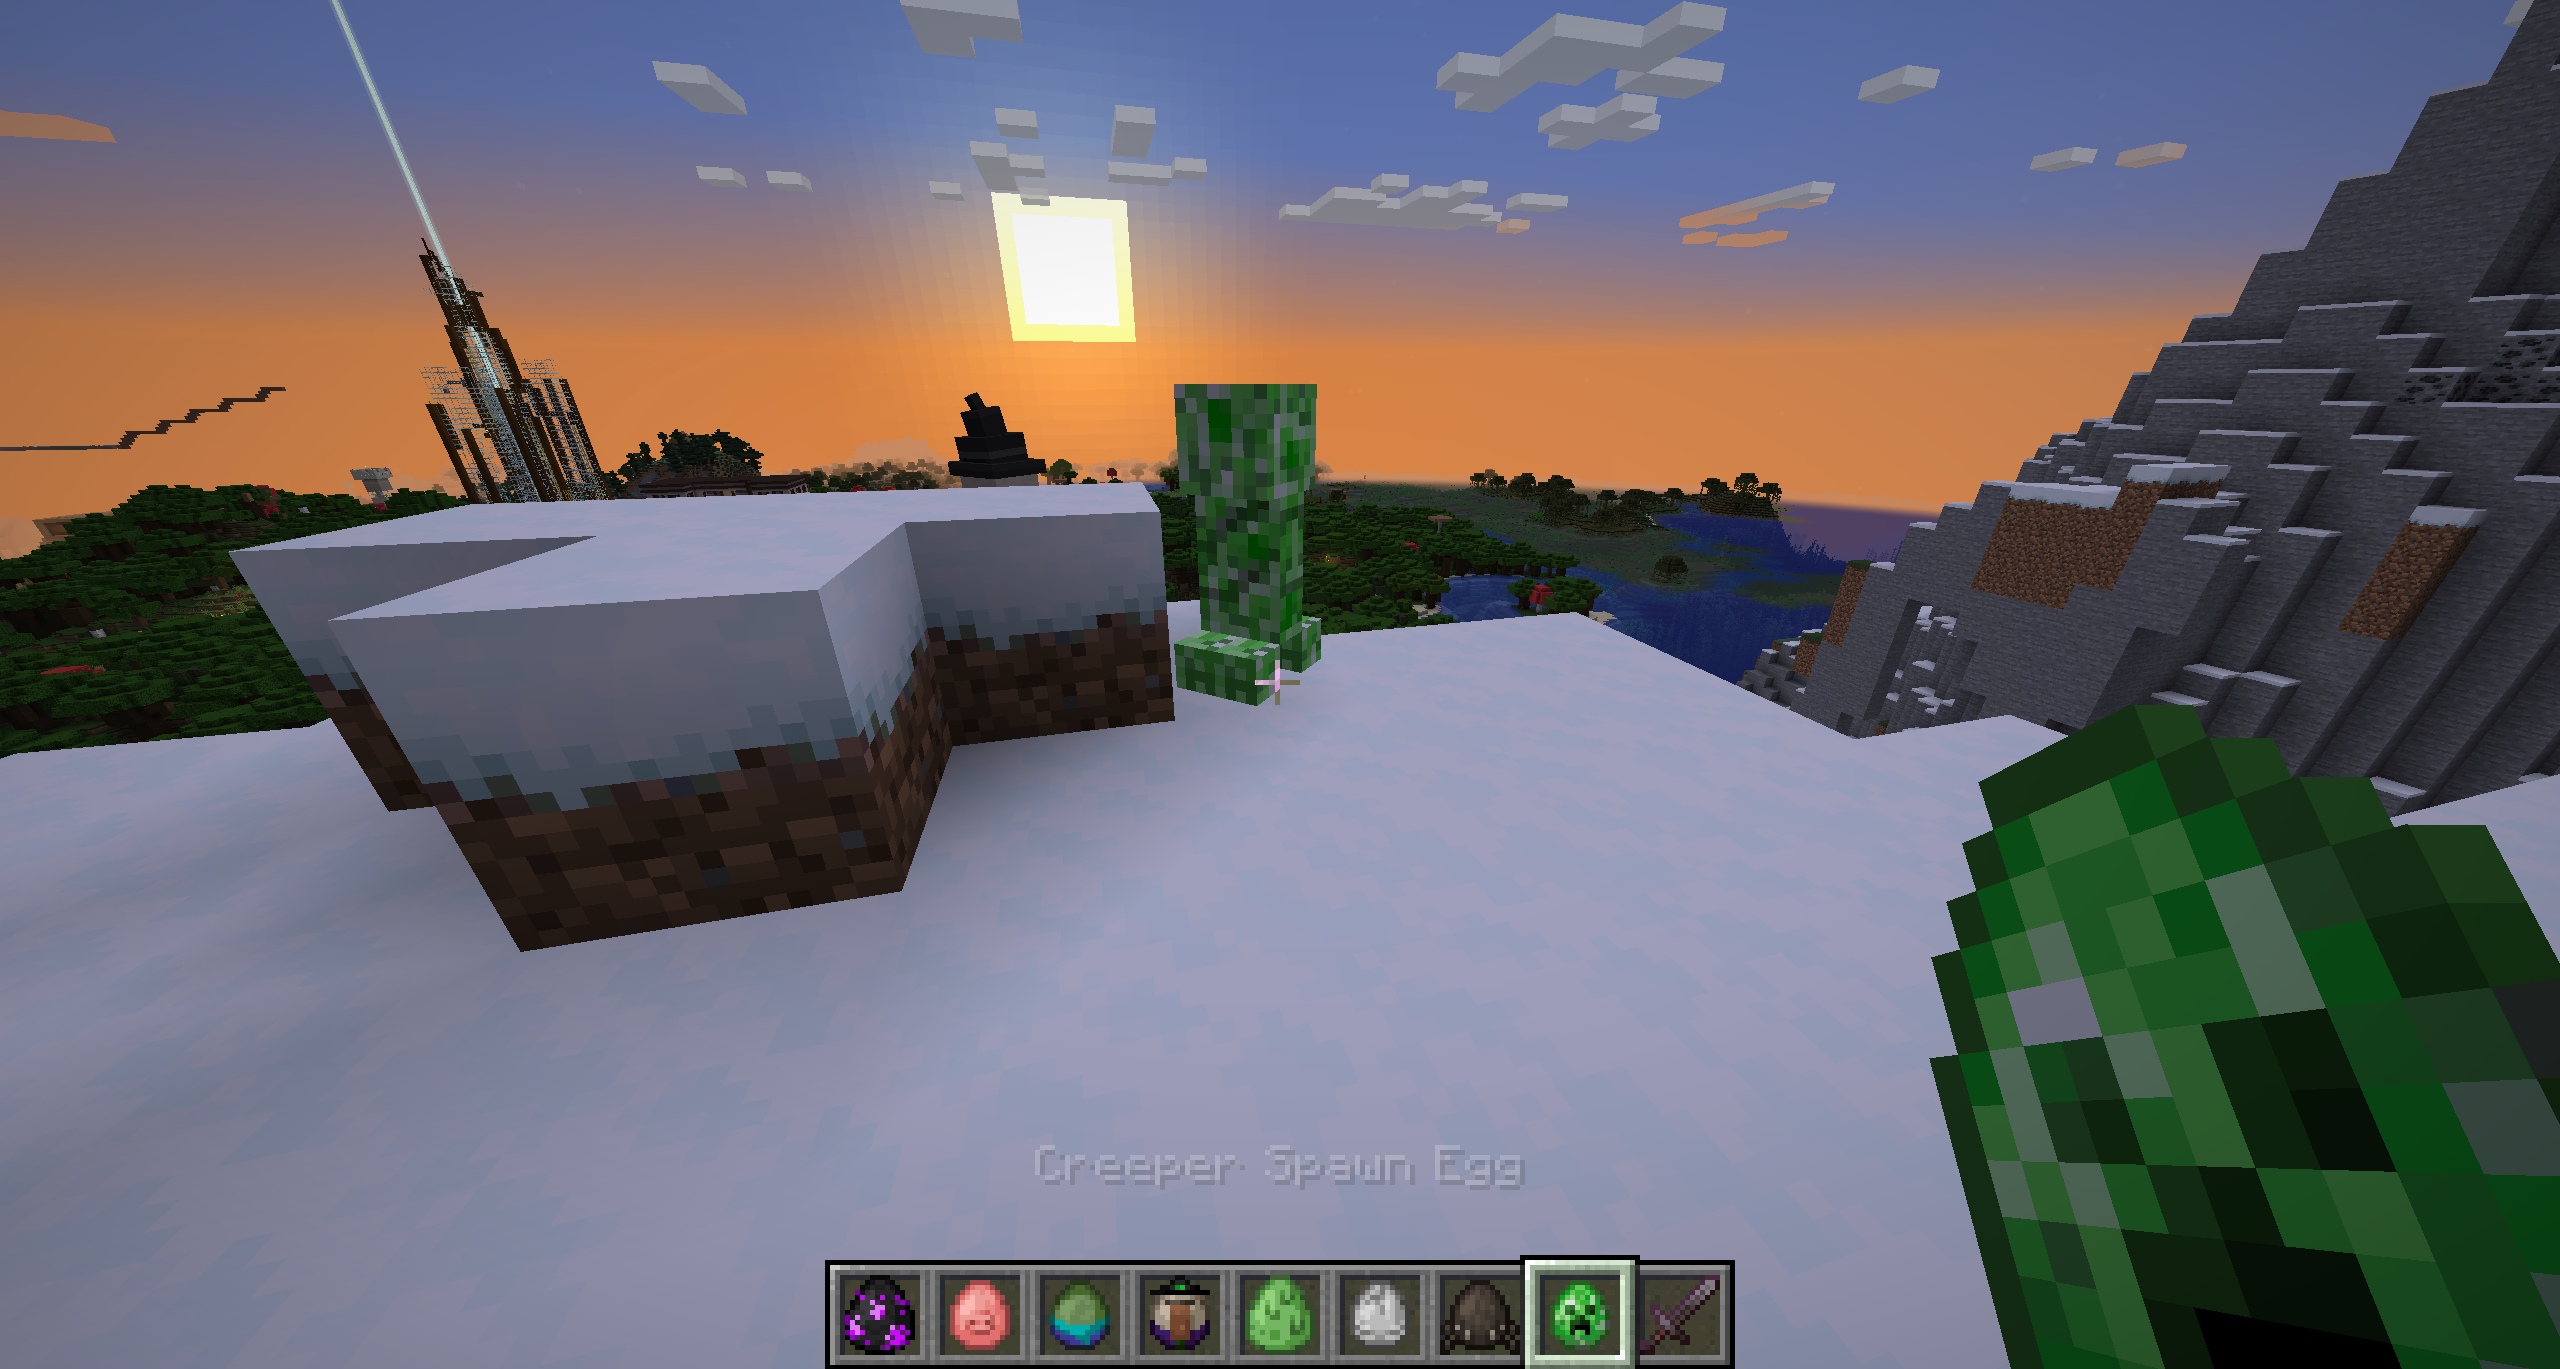creepers: (1168, 379, 1327, 697)
